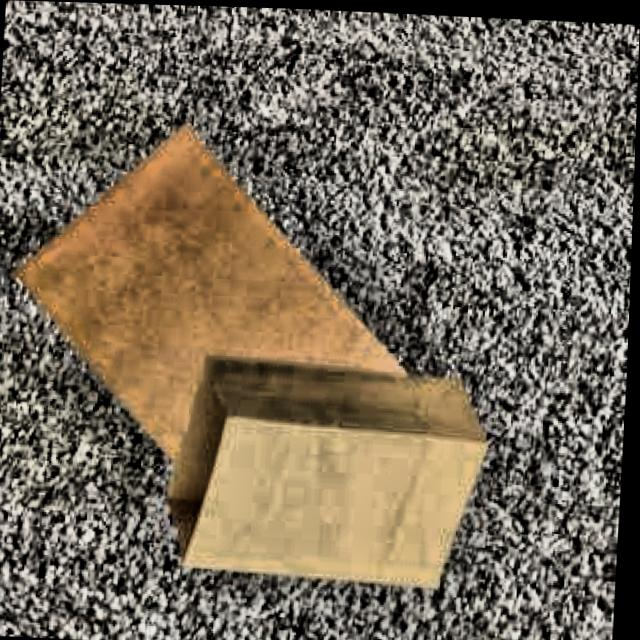Paper-bag: (0, 110, 456, 536), (151, 346, 500, 602)
